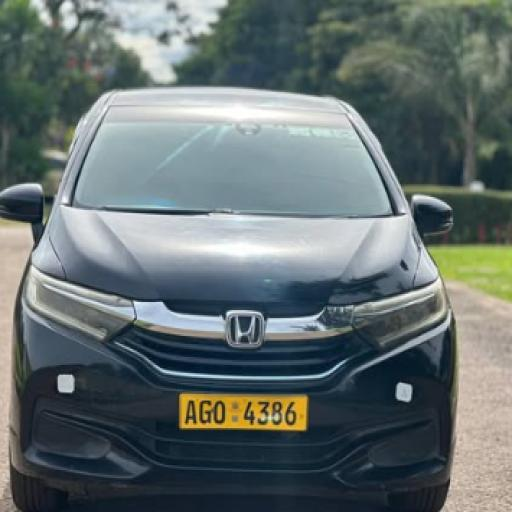number-plates: (179, 392, 304, 430)
